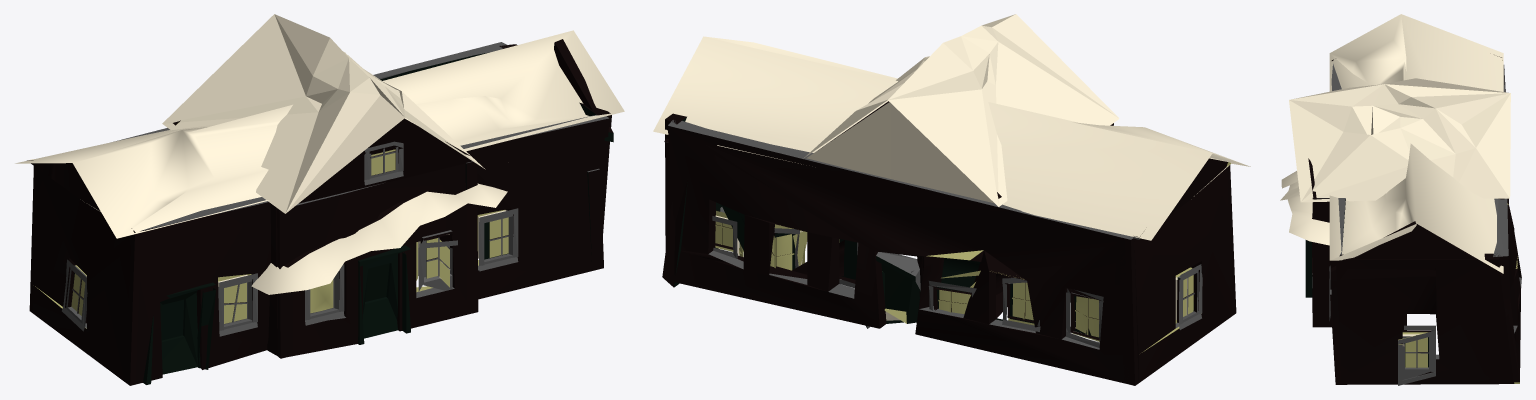
File: CasaEstado3 1.fbx
3 views of the same model, side by side, from view 1: azimuth 30°, elevation 25°; view 2: azimuth 150°, elevation 25°; view 3: azimuth 270°, elevation 25° (orthographic). The views are drawn at different scales.
Parts seen in each view (by area): view 1: Plane001; view 2: Plane001; view 3: Plane001.
Boxes of the visible parts, <box> form: Plane001: <box>15,14,624,385</box>; Plane001: <box>653,14,1250,385</box>; Plane001: <box>1280,14,1521,385</box>.
Bounding box in the file's own units: 215 × 103 × 104.
